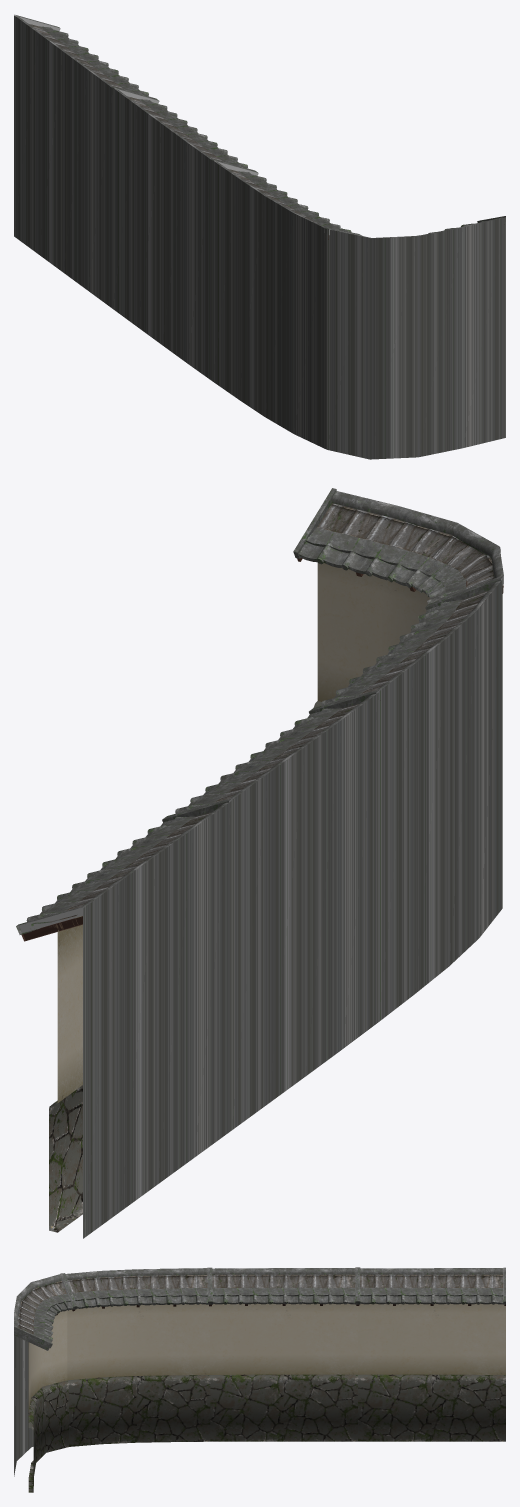
File: zenkei_miniwall_curved.fbx
3 views of the same model, one above another, from view 1: azimuth 30°, elevation 25°; view 2: azimuth 150°, elevation 25°; view 3: azimuth 270°, elevation 25° (orthographic). The views are drawn at different scales.
Parts seen in each view (by area): view 1: zenkei_miniWall1.005; view 2: zenkei_miniWall1.005; view 3: zenkei_miniWall1.005.
Part boxes in pixels (x1,y1,x2,y2): zenkei_miniWall1.005: (14,14,505,459); zenkei_miniWall1.005: (16,488,503,1238); zenkei_miniWall1.005: (14,1267,505,1492).
Bounding box in the file's own units: 1.68 × 5.88 × 2.19.
